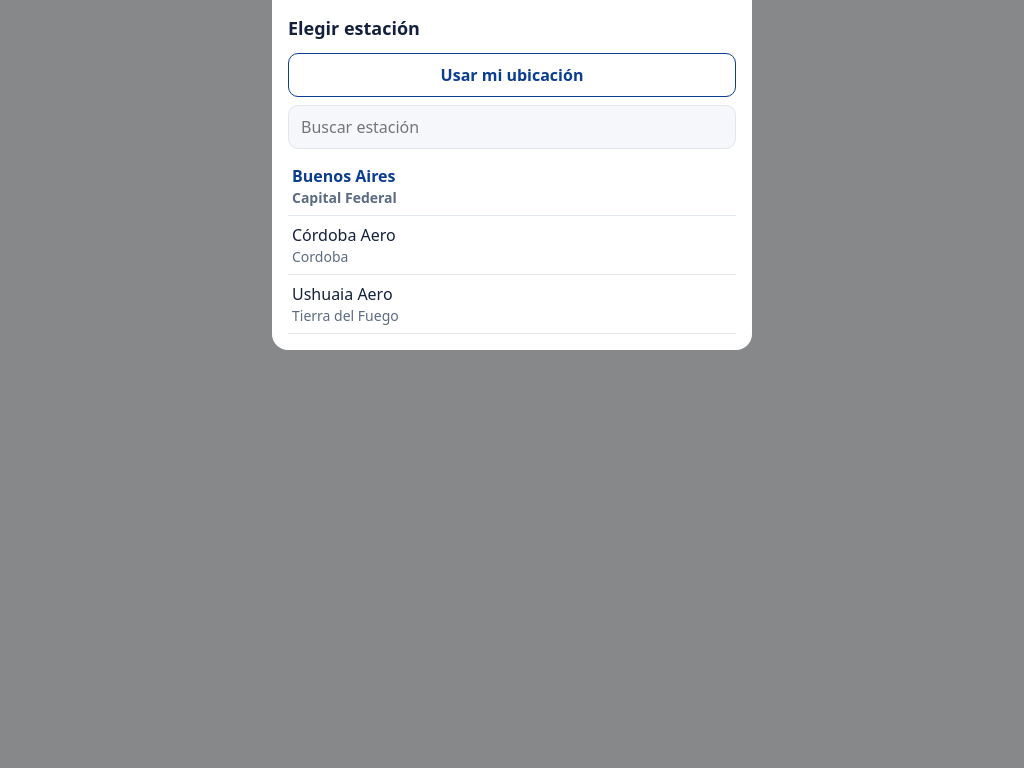
StationPicker › sin resultados
Type "zzz" into the search field.
click(512, 127); type("zzz")  # box [288,105,736,149]
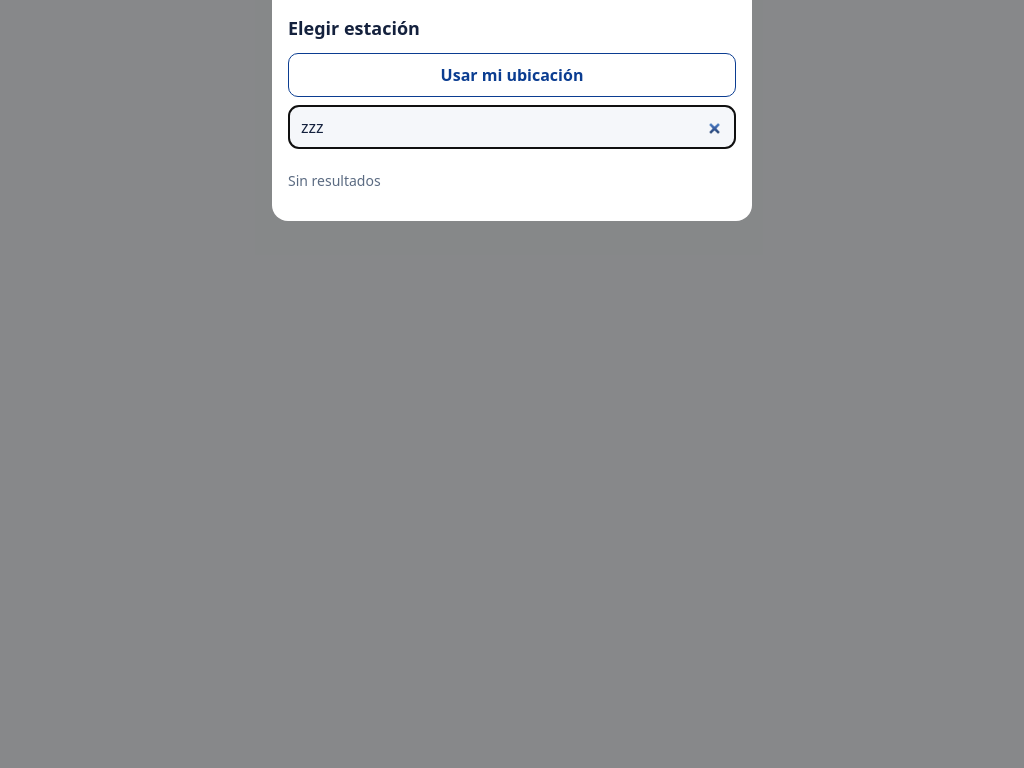
Now the text "Sin resultados" is shown, box [288,171,381,190]
